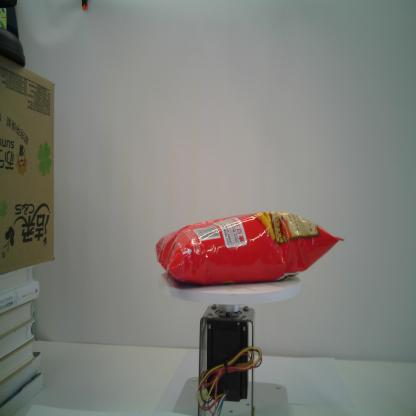Puffed Food: (153, 208, 346, 286)
